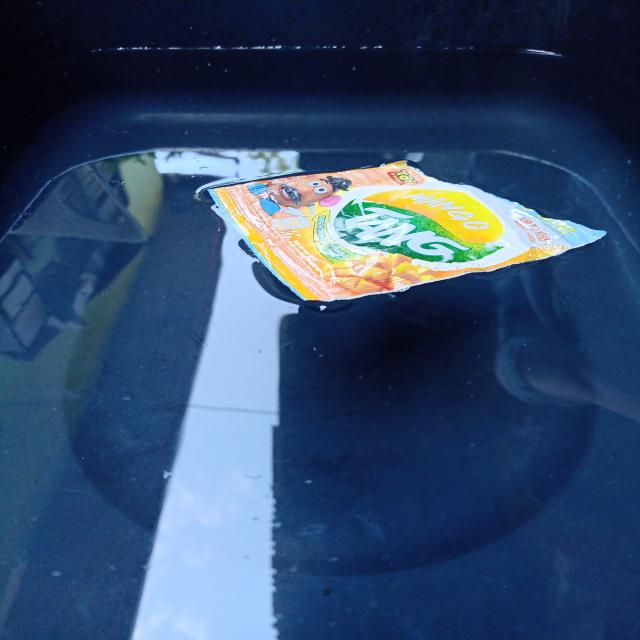Plastic Wrapper: (195, 153, 606, 312)
